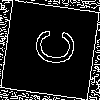C: (25, 25, 77, 68)
